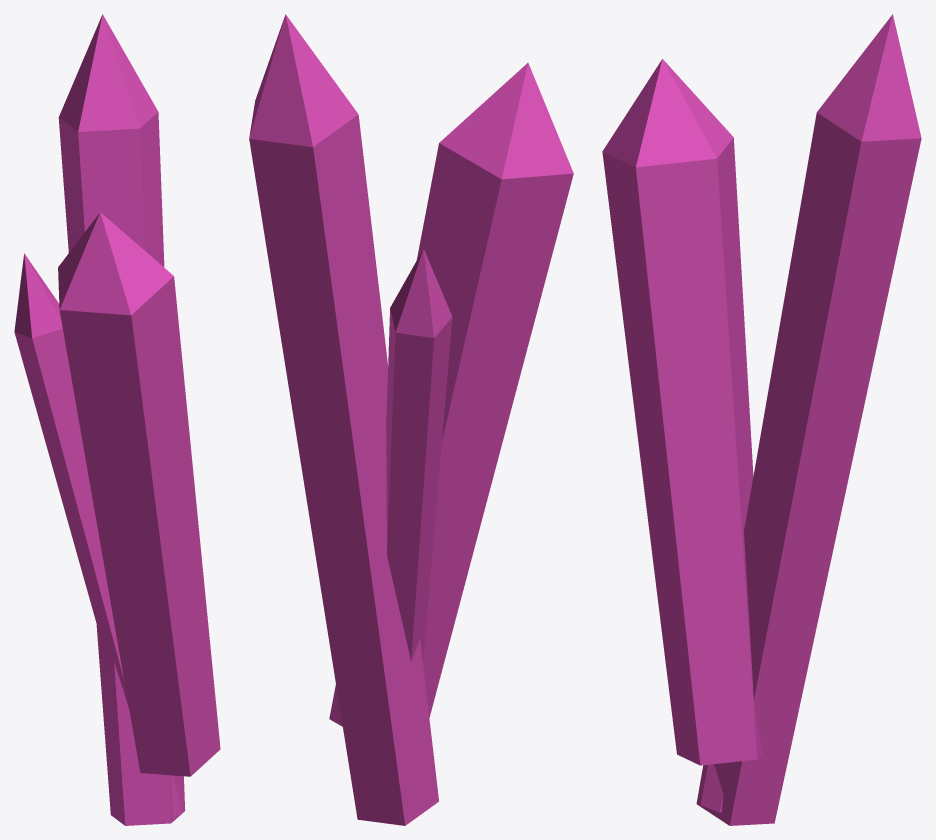
The model's file is small_crystals_2_1.fbx.
The picture shows the model from 3 angles, left to right: view 1: azimuth 30°, elevation 25°; view 2: azimuth 150°, elevation 25°; view 3: azimuth 270°, elevation 25°; orthographic projection. The views are drawn at different scales.
Visible parts, largest first — view 1: small crystals.031; view 2: small crystals.031; view 3: small crystals.031.
Part boxes in pixels (box(x1,y1,x2,y2)): small crystals.031: box(14, 14, 220, 825); small crystals.031: box(249, 14, 573, 825); small crystals.031: box(602, 14, 921, 825).
Bounding box in the file's own units: 73.47 × 277 × 98.26.
